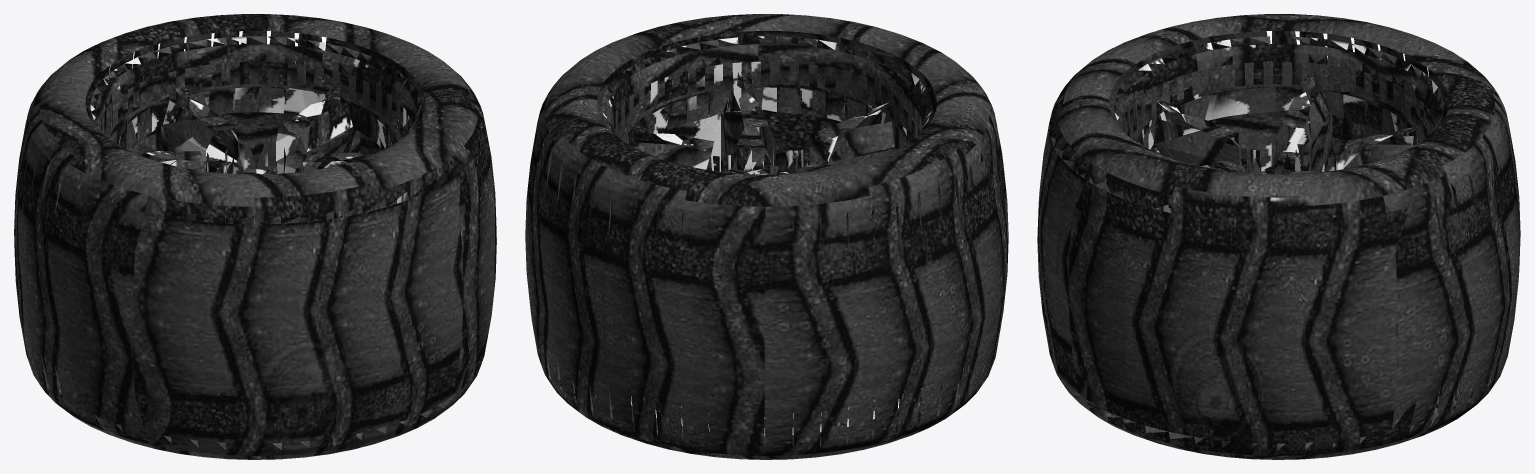
The model's file is wheel_lf.dae.
3 views of the same model, side by side, from view 1: azimuth 30°, elevation 25°; view 2: azimuth 150°, elevation 25°; view 3: azimuth 270°, elevation 25° (orthographic).
Parts seen in each view (by area): view 1: wheel_lf; view 2: wheel_lf; view 3: wheel_lf.
Boxes of the visible parts, x1,y1,x2,y2 form: wheel_lf: (14,14,496,459); wheel_lf: (525,14,1008,459); wheel_lf: (1037,14,1520,459).
Size of the model in its own units: 0.1574 by 0.1574 by 0.0998.
Materials: 1 (1 with a texture image).
